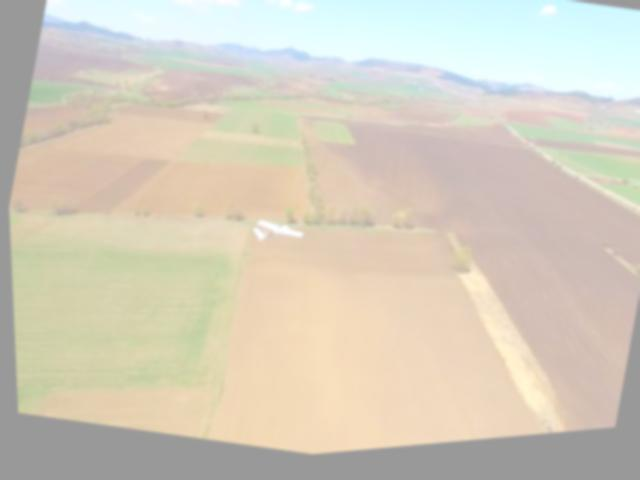uav: (242, 212, 310, 264)
